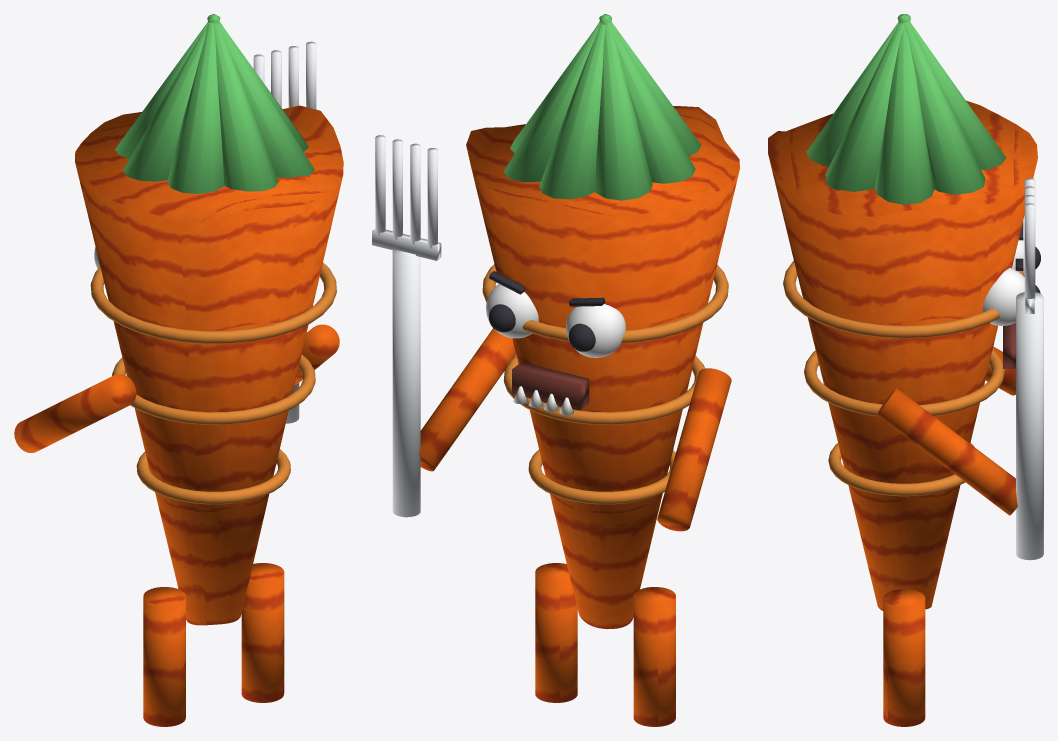
File: carrot_lancer.glb
3 views of the same model, side by side, from view 1: azimuth 30°, elevation 25°; view 2: azimuth 150°, elevation 25°; view 3: azimuth 270°, elevation 25° (orthographic).
Parts seen in each view (by area): view 1: Cone, Cylinder, Cylinder.002, Cone.006, Cone.007, Cylinder.001, Torus.002, Cone.005, Cone.008, Torus.001, Torus, Cone.004 (+5 smaller); view 2: Cone, Cylinder.004, Cone.004, Cylinder, Cone.003, Cylinder.001, Cylinder.002, Cylinder.003, Cone.005, Cone.002, Torus.002, Torus.001 (+13 smaller); view 3: Cone, Cylinder.004, Cone.001, Cylinder.002, Cylinder.003, Cone.002, Cone.008, Torus.002, Torus.001, Cone.003, Cone.007, Torus (+4 smaller).
Part boxes in pixels (box(x1,y1,x2,y2)): Cone: box(75, 105, 343, 625); Cylinder: box(143, 587, 185, 726); Cylinder.002: box(241, 563, 284, 702); Cone.006: box(167, 15, 224, 193); Cone.007: box(208, 16, 278, 191); Cylinder.001: box(14, 374, 136, 452); Torus.002: box(90, 262, 336, 343); Cone.005: box(123, 14, 220, 181); Cone.008: box(209, 14, 314, 177); Torus.001: box(112, 354, 315, 424); Torus: box(136, 449, 290, 504); Cone.004: box(115, 15, 219, 158); Cone: box(466, 106, 739, 629); Cylinder.004: box(392, 249, 420, 517); Cone.004: box(595, 15, 652, 200); Cylinder: box(633, 587, 675, 726); Cone.003: box(539, 14, 610, 199); Cylinder.001: box(657, 368, 731, 531); Cylinder.002: box(535, 563, 577, 702); Cylinder.003: box(419, 328, 516, 471); Cone.005: box(599, 14, 695, 183); Cone.002: box(503, 14, 610, 181); Torus.002: box(482, 264, 728, 343); Torus.001: box(503, 355, 704, 424); Cone: box(768, 100, 1037, 610); Cylinder.004: box(1016, 292, 1043, 560); Cone.001: box(875, 15, 934, 204); Cylinder.002: box(883, 589, 925, 726); Cylinder.003: box(876, 388, 1017, 515); Cone.002: box(898, 15, 985, 194); Cone.008: box(825, 15, 910, 191); Torus.002: box(783, 260, 1023, 338); Torus.001: box(804, 350, 1004, 416); Cone.003: box(897, 16, 1006, 169); Cone.007: box(806, 16, 910, 165); Torus: box(828, 443, 974, 496).
Size of the model in its own units: 1 by 2.15 by 0.7906.
8 materials, 1 textured.
